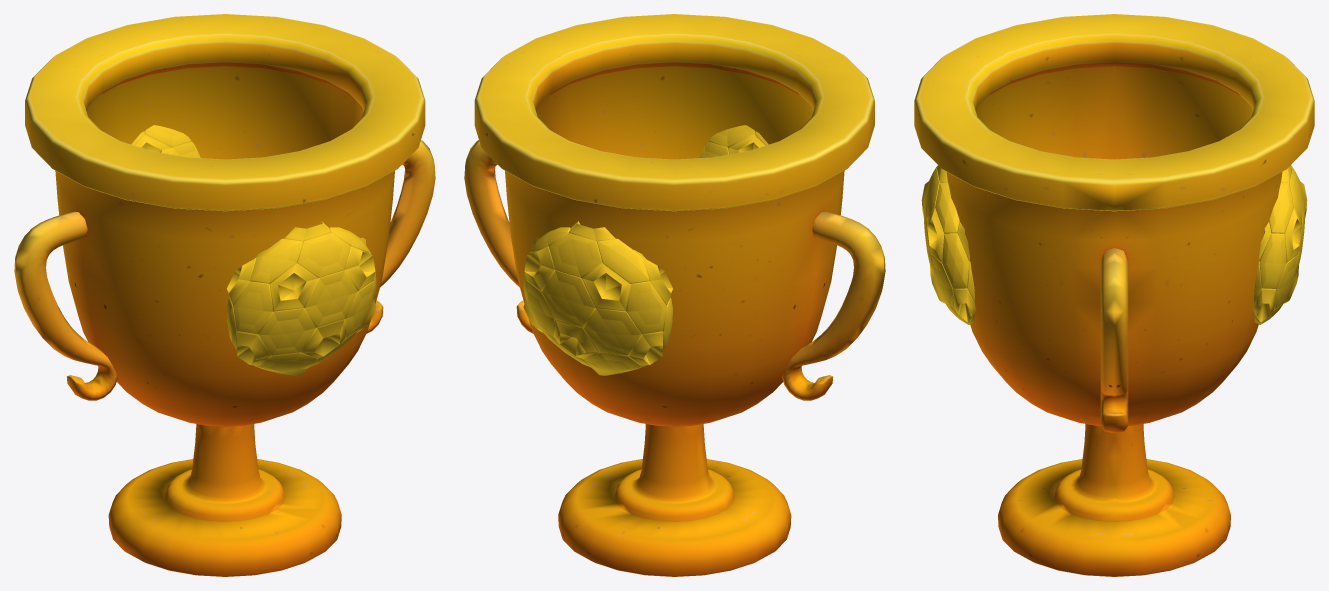
File: TrophyKickoff01.glb
3 renders of one model, left to right at view 1: azimuth 30°, elevation 25°; view 2: azimuth 150°, elevation 25°; view 3: azimuth 270°, elevation 25°, orthographic.
Visible parts, largest first — view 1: ball; view 2: ball; view 3: ball.
Part boxes in pixels (left/top/right/bottom): ball: left=14, top=14, right=435, bottom=576; ball: left=464, top=14, right=885, bottom=576; ball: left=914, top=14, right=1314, bottom=576.
Bounding box in the file's own units: 0.6636 × 0.6599 × 0.5486.
2 materials, 2 textured.
